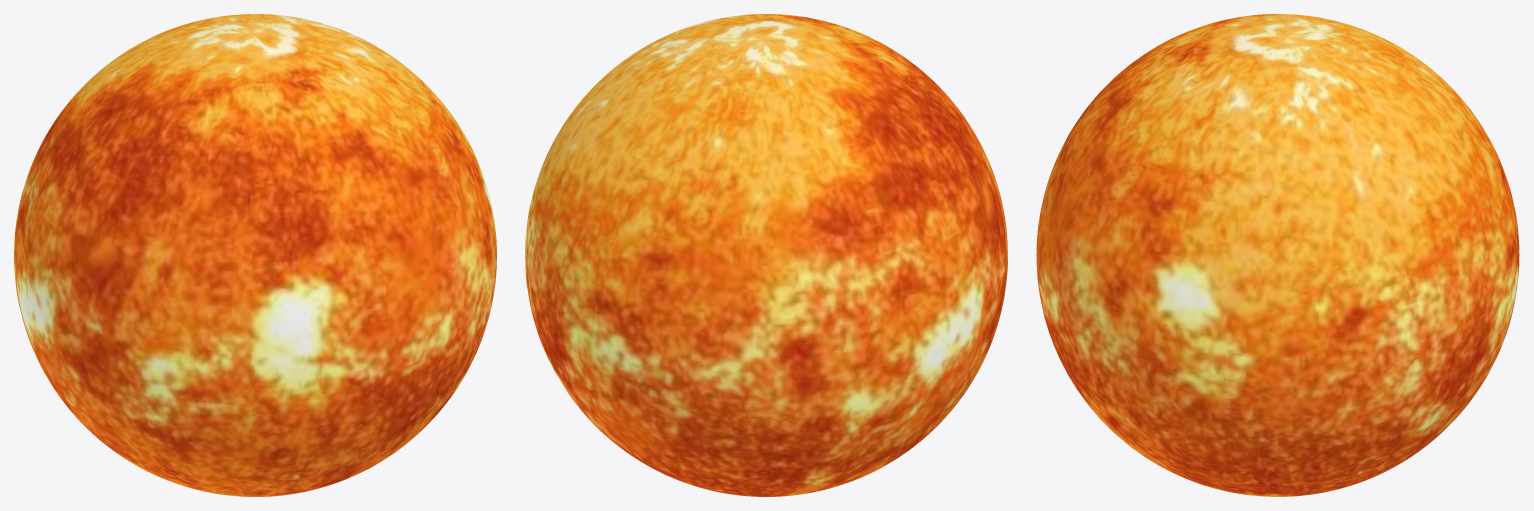
Rendered from Sun.glb.
3 renders of one model, left to right at view 1: azimuth 30°, elevation 25°; view 2: azimuth 150°, elevation 25°; view 3: azimuth 270°, elevation 25°, orthographic.
Parts seen in each view (by area): view 1: pSphere1.1; view 2: pSphere1.1; view 3: pSphere1.1.
Part boxes in pixels (x1,y1,x2,y2): pSphere1.1: (14,14,496,496); pSphere1.1: (525,14,1007,496); pSphere1.1: (1036,14,1519,496).
Size of the model in its own units: 10.01 by 10.01 by 10.01.
Materials: 1 (1 with a texture image).
